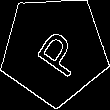P_NW: (25, 20, 84, 79)
